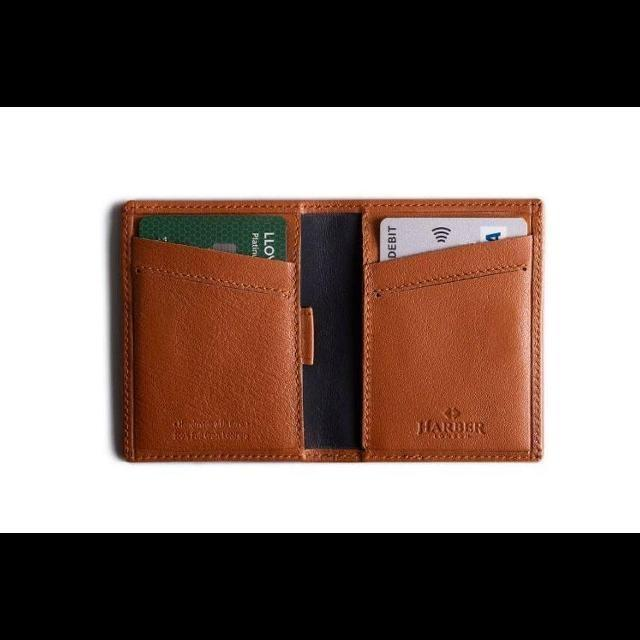Wallet: (118, 194, 546, 468)
